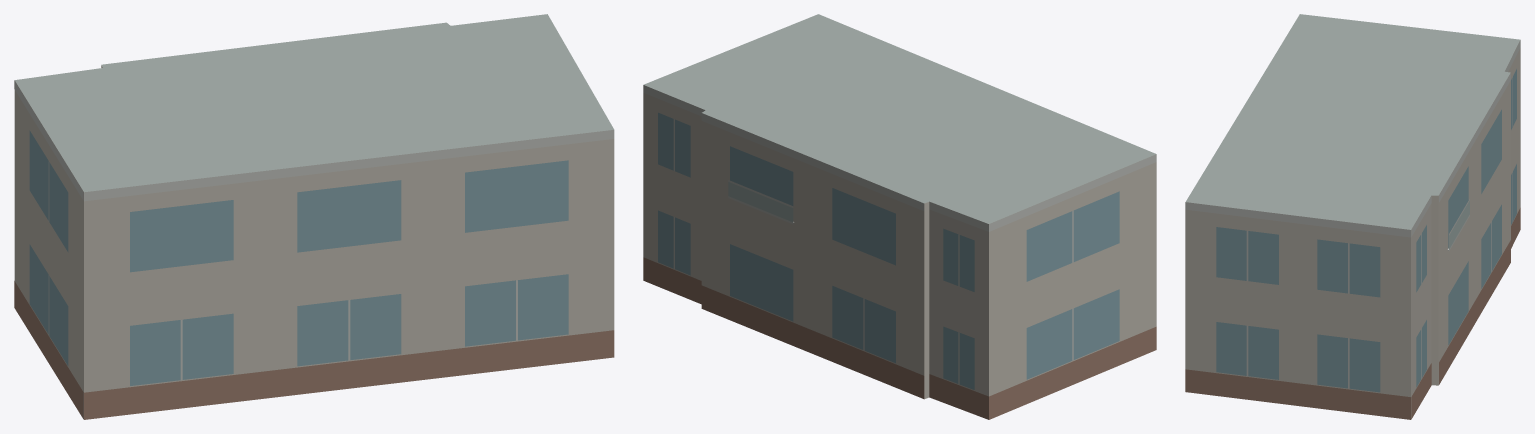
The model's file is survey-upis-32582949.glb.
The picture shows the model from 3 angles, left to right: view 1: azimuth 30°, elevation 25°; view 2: azimuth 150°, elevation 25°; view 3: azimuth 270°, elevation 25°; orthographic projection. The views are drawn at different scales.
Parts seen in each view (by area): view 1: survey-upis-32582949.tmp; view 2: survey-upis-32582949.tmp; view 3: survey-upis-32582949.tmp.
Part boxes in pixels (<box>): survey-upis-32582949.tmp: <box>14,14,614,419</box>; survey-upis-32582949.tmp: <box>643,14,1156,419</box>; survey-upis-32582949.tmp: <box>1185,14,1520,419</box>.
Bounding box in the file's own units: 14.88 × 6.1 × 9.77.
